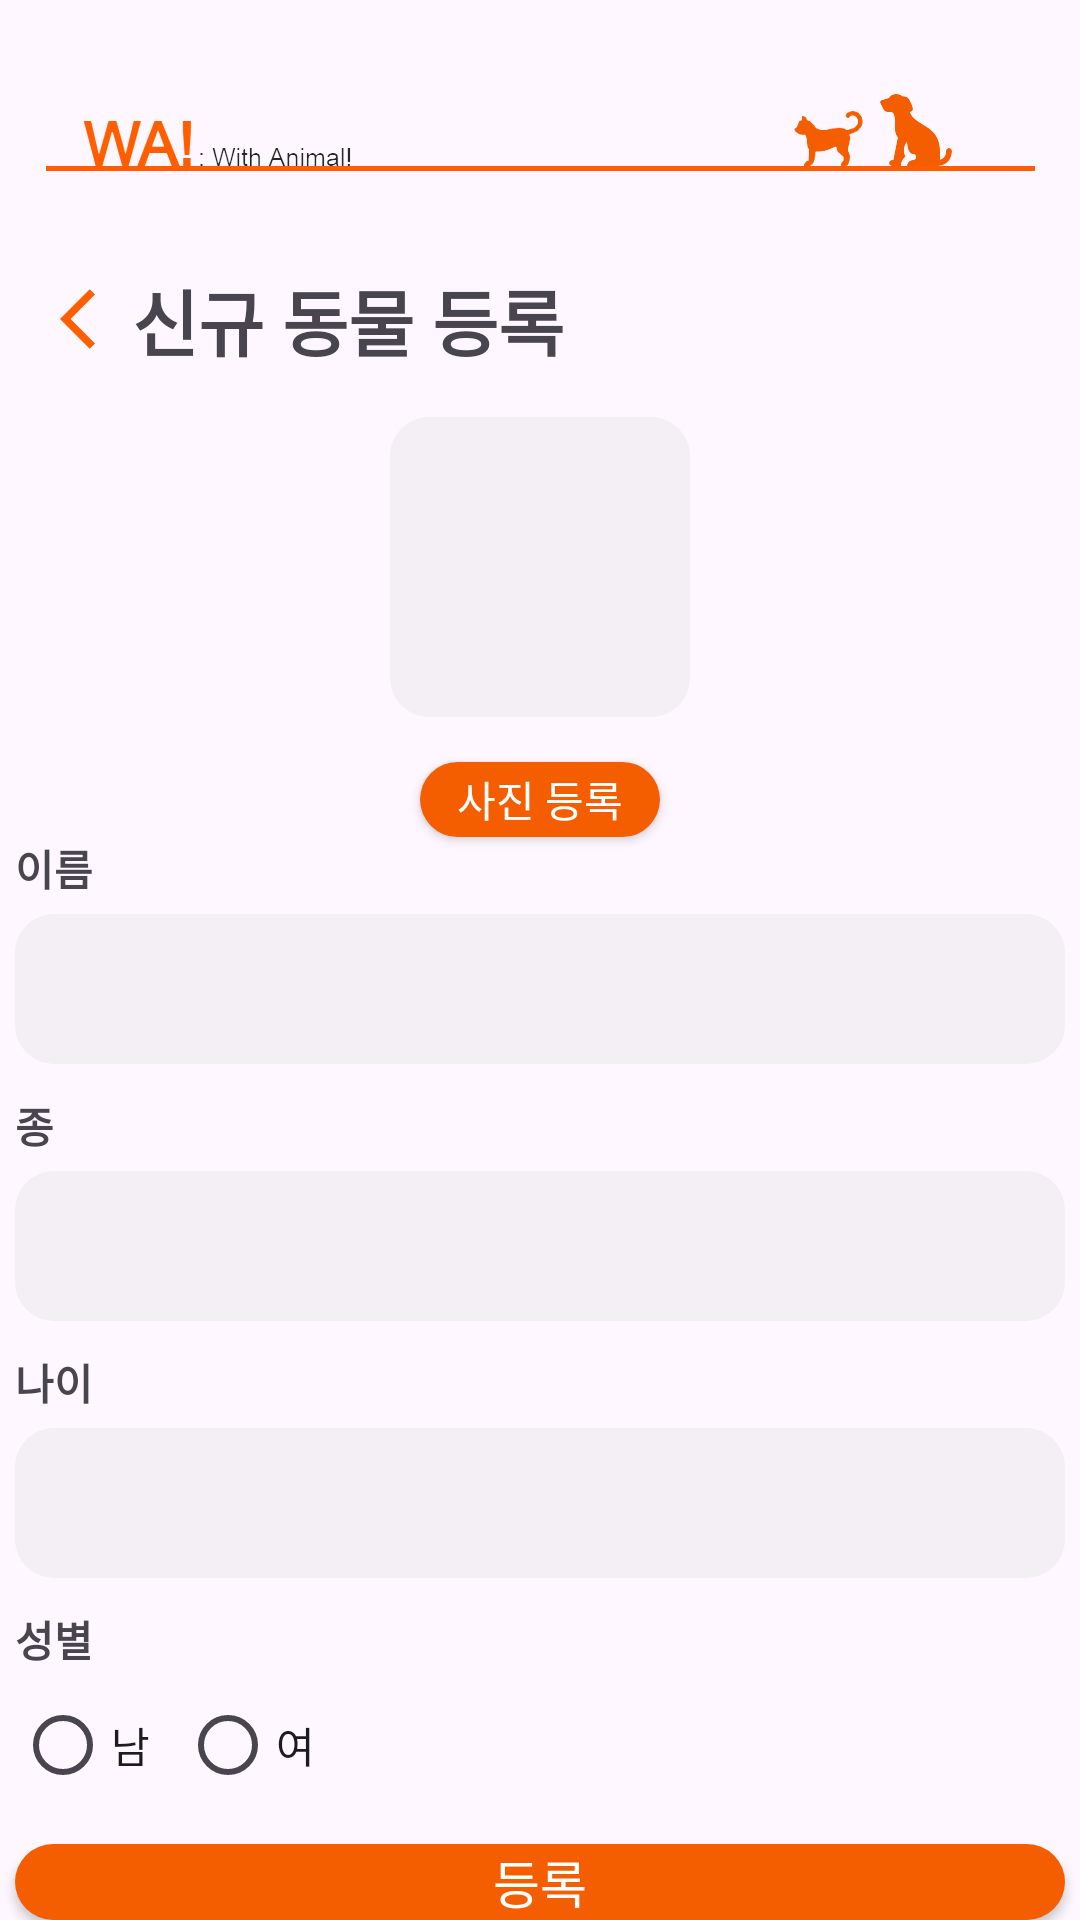

Locate icon controls on the screen. Image size 1080 × 1920, boxes as (x1, y1, x2, y2).
arrow back: (60, 289, 95, 349)
